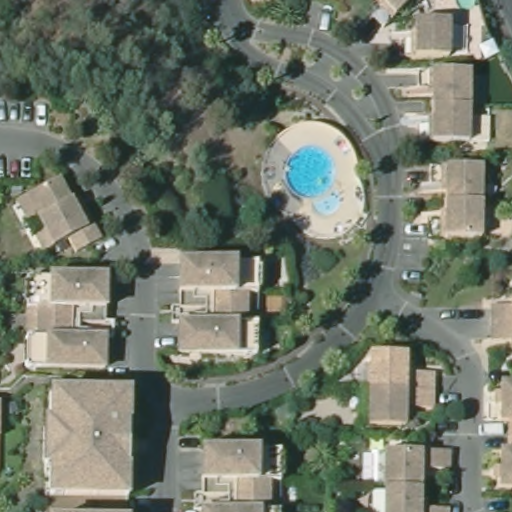pool: (284, 143, 337, 194), (313, 195, 342, 215)
